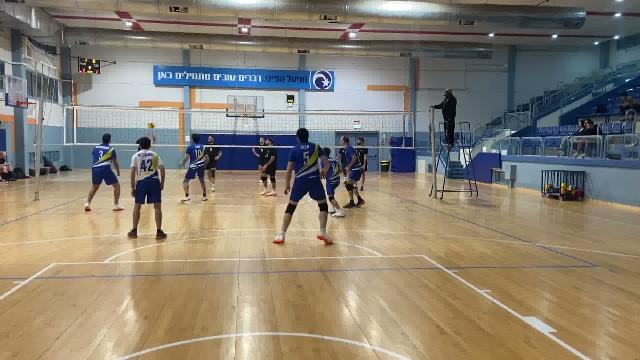ball: (147, 121, 156, 130)
